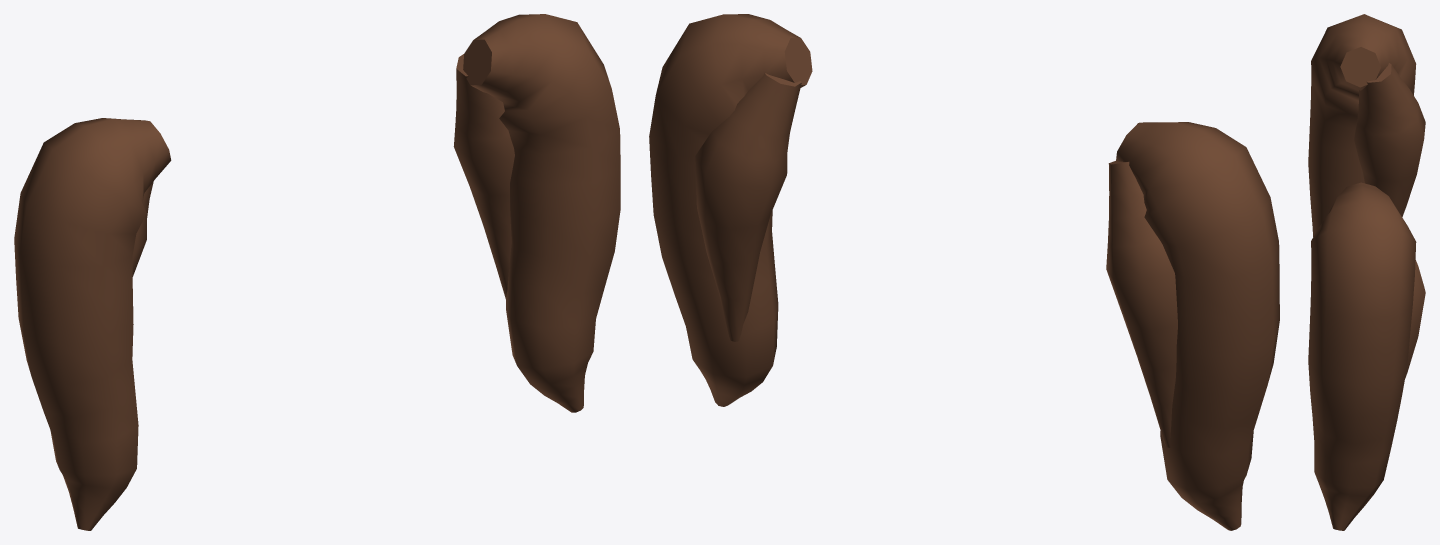
The model's file is hair_twin_sway.glb.
3 renders of one model, left to right at view 1: azimuth 30°, elevation 25°; view 2: azimuth 150°, elevation 25°; view 3: azimuth 270°, elevation 25°, orthographic. The views are drawn at different scales.
Visible parts, largest first — view 1: lock; view 2: lock; view 3: lock.
Boxes of the visible parts, x1,y1,x2,y2 form: lock: (14, 14, 620, 530); lock: (649, 14, 1279, 530); lock: (1308, 14, 1425, 530).
Size of the model in its own units: 3.9 by 2.46 by 0.8046.
